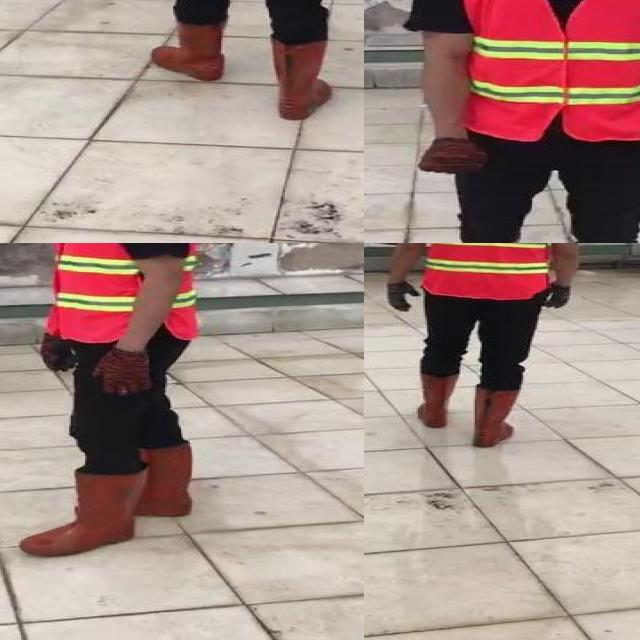boots: (18, 470, 136, 557), (271, 35, 335, 120), (152, 18, 226, 80), (133, 445, 190, 518), (466, 385, 519, 450), (415, 369, 457, 428)
hand_glove: (90, 348, 152, 394), (420, 141, 489, 177), (384, 280, 424, 311), (41, 340, 76, 374), (539, 281, 573, 308)
person: (7, 243, 208, 564), (398, 0, 640, 243), (375, 243, 588, 459), (125, 0, 364, 124)
vest: (453, 0, 640, 140), (46, 243, 206, 340), (420, 243, 555, 298)
